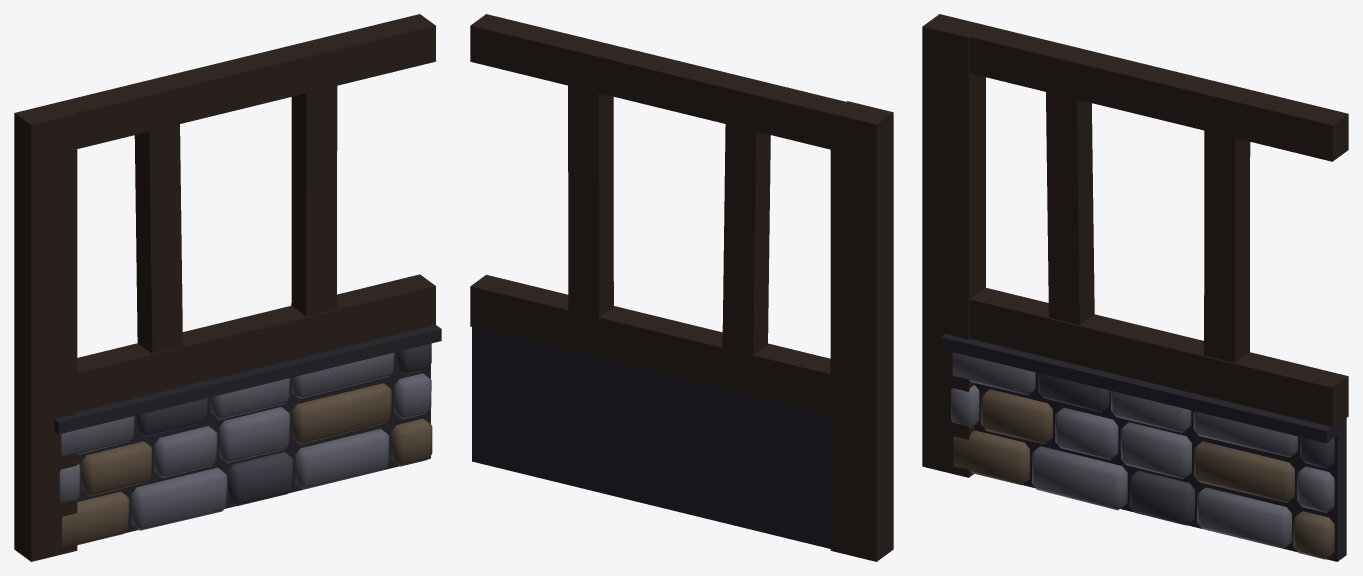
Rendered from kit_timber_low_d.glb.
3 renders of one model, left to right at view 1: azimuth 30°, elevation 25°; view 2: azimuth 150°, elevation 25°; view 3: azimuth 330°, elevation 25°, orthographic.
Parts seen in each view (by area): view 1: kit_timber_low_d; view 2: kit_timber_low_d; view 3: kit_timber_low_d.
Part boxes in pixels (x1,y1,x2,y2): kit_timber_low_d: (14, 14, 441, 561); kit_timber_low_d: (470, 14, 893, 561); kit_timber_low_d: (922, 14, 1348, 561).
Bounding box in the file's own units: 1.06 × 1.09 × 0.098.
